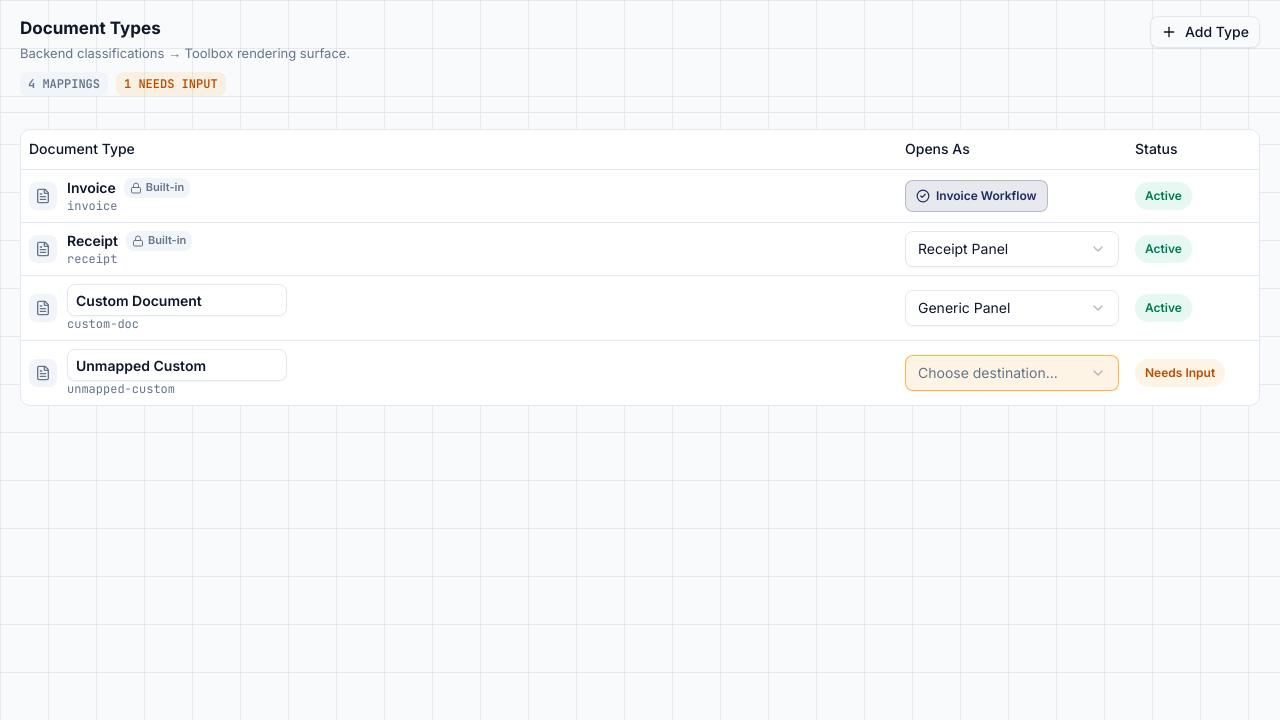
DocumentTypesSection › edits a custom destination, marks it dirty, and cancel reverts
The image size is (1280, 720).
Click the dropdown named "Custom Document opens as" at (1012, 308), box [905, 290, 1119, 326]
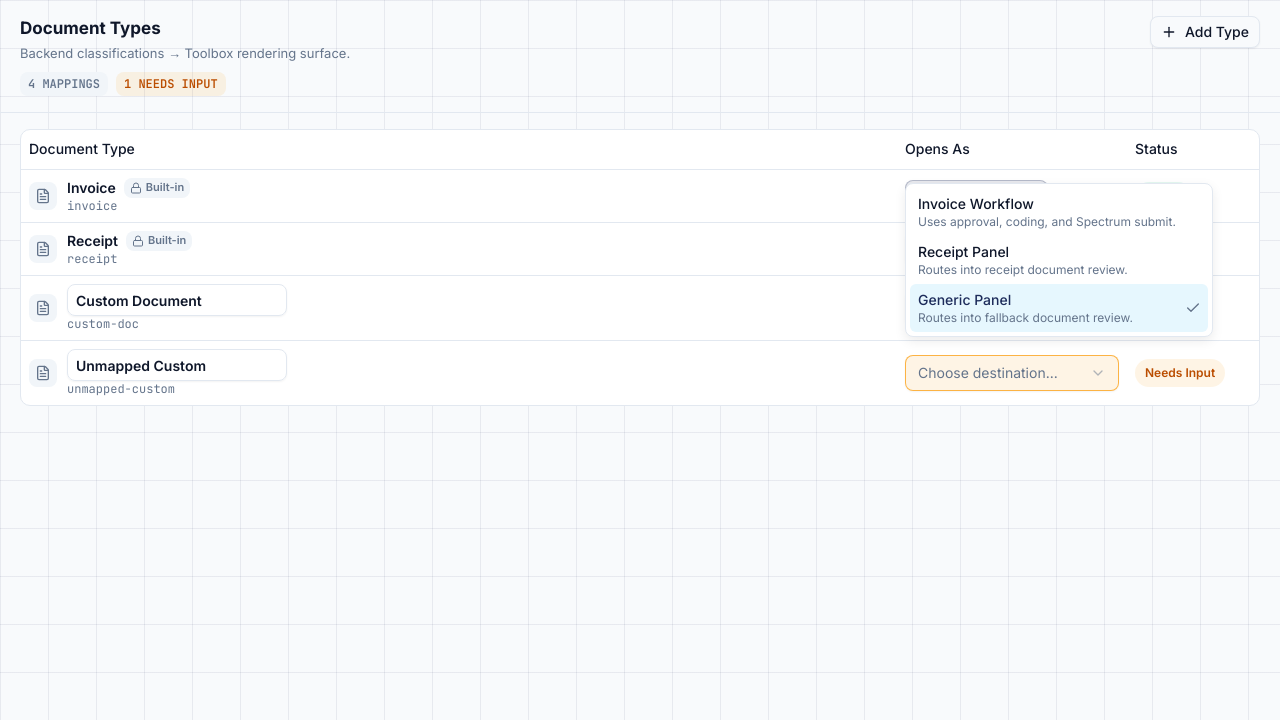
Expected: the text "Routes into receipt document review." is shown, [918, 262, 1128, 278]
Click the option "Receipt Panel Routes into receipt document review." at (1023, 260), box [918, 243, 1128, 277]
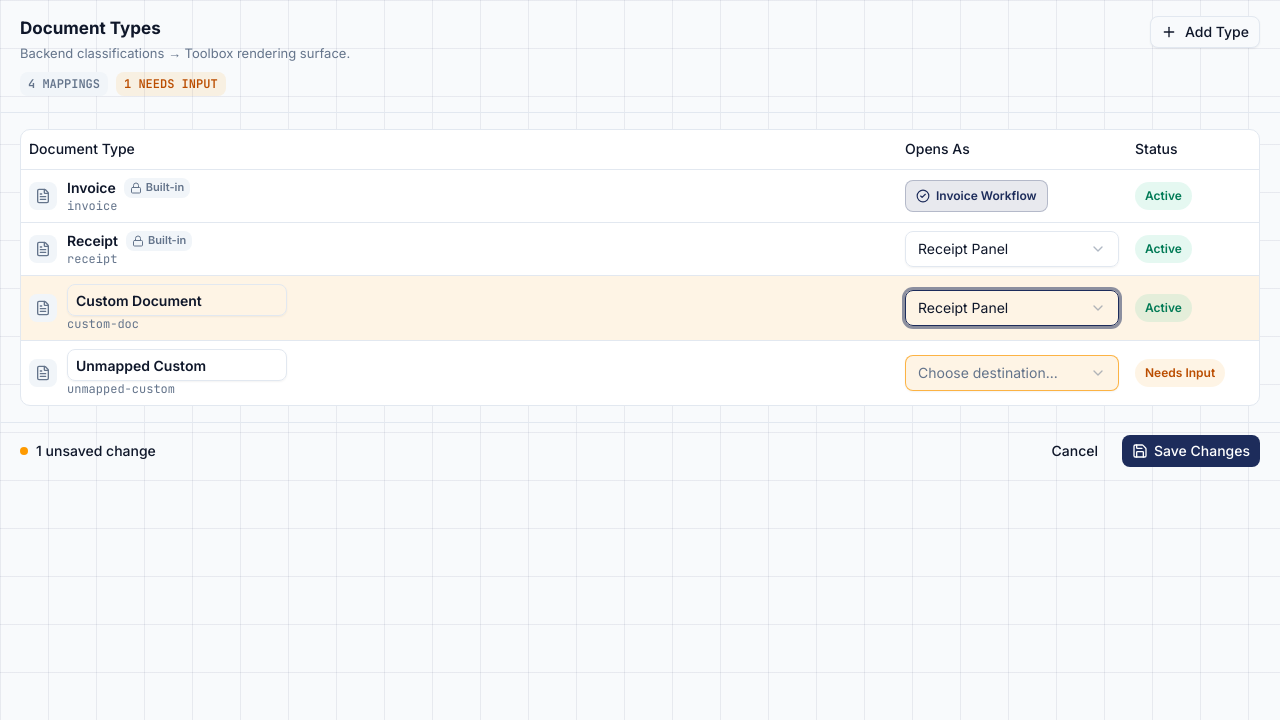
Expected: the text "1 unsaved change" is shown, [20, 441, 156, 461]
Expected: the dropdown named "Custom Document opens as" reads "Receipt Panel", [905, 290, 1119, 326]
Click the button "Cancel" at (1075, 451), box [1040, 435, 1110, 467]
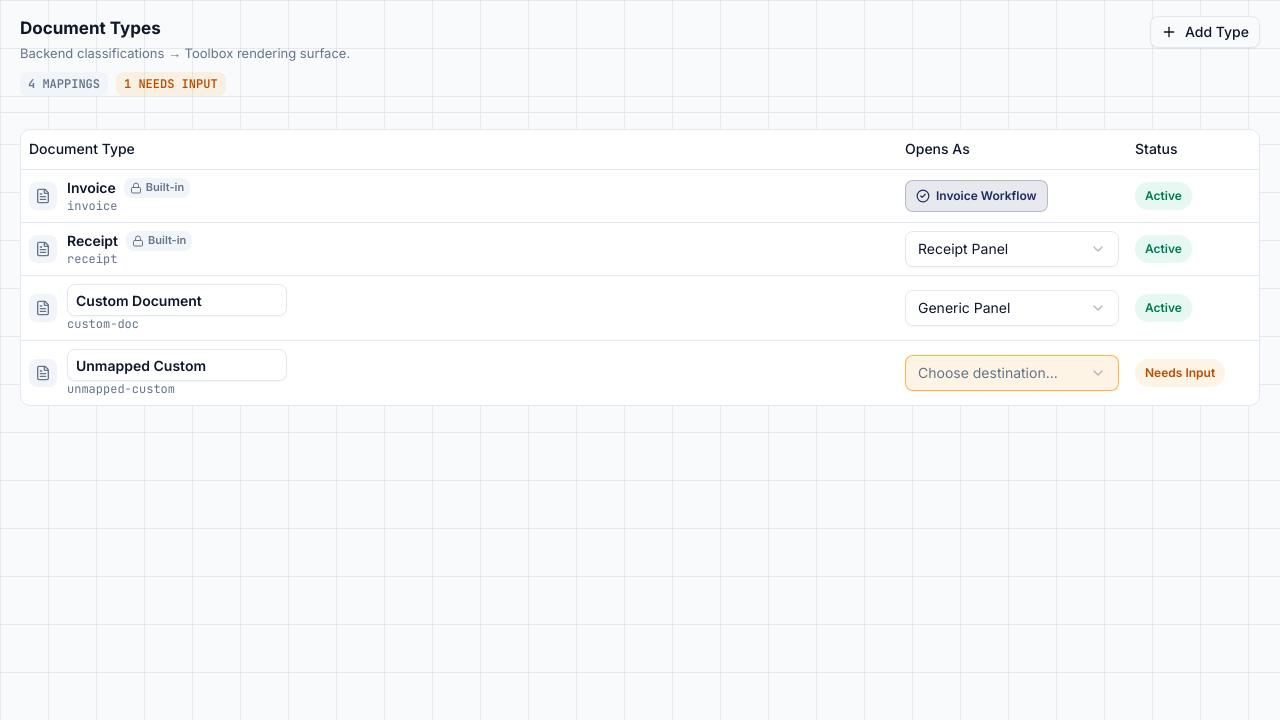
Expected: the dropdown named "Custom Document opens as" reads "Generic Panel", [905, 290, 1119, 326]
Expected: the text "1 unsaved change" is gone
